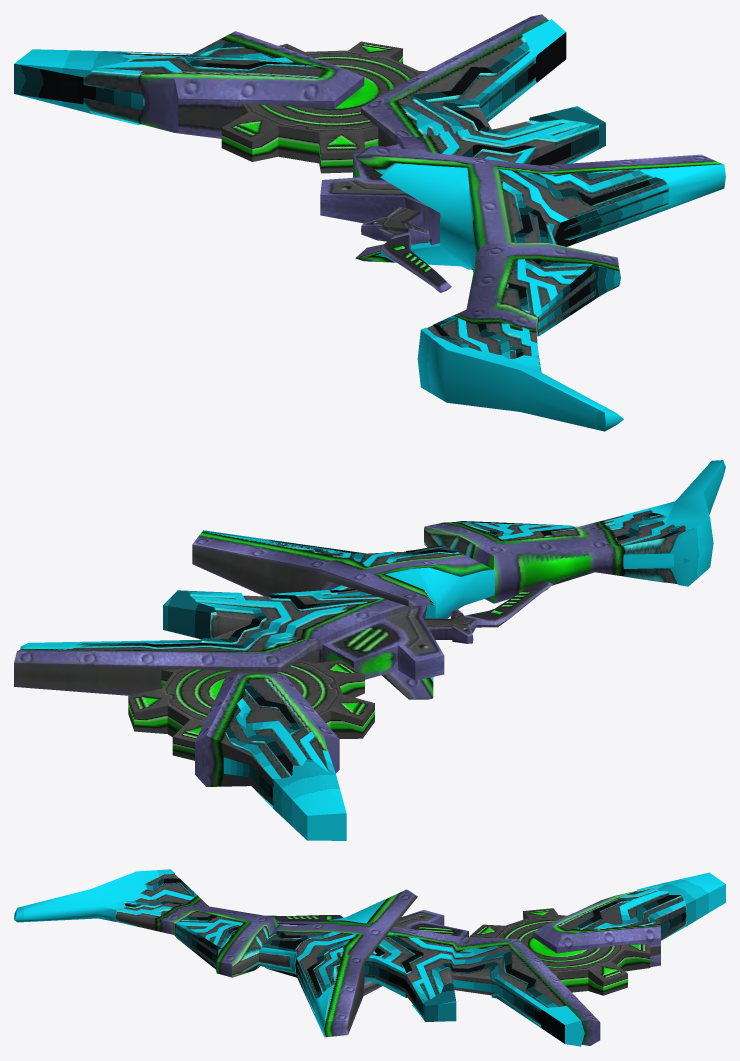
The model's file is bow_l_lightning_lightning.glb.
3 views of the same model, one above another, from view 1: azimuth 30°, elevation 25°; view 2: azimuth 150°, elevation 25°; view 3: azimuth 270°, elevation 25° (orthographic). The views are drawn at different scales.
Size of the model in its own units: 0.9331 by 0.2161 by 1.85.
Materials: 2 (2 with a texture image).
